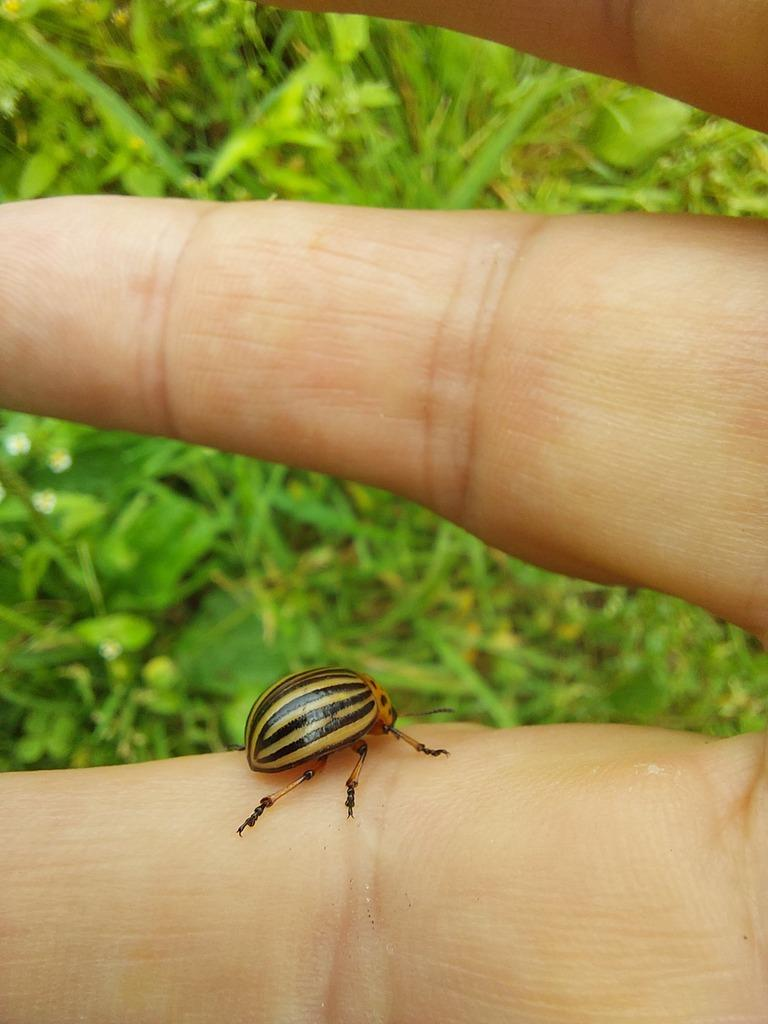potato_beetle: (202, 621, 457, 867)
